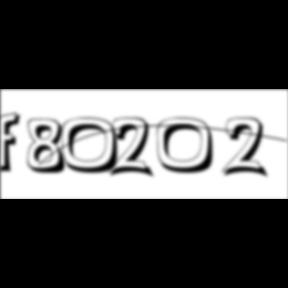2: (108, 117, 158, 181), (223, 117, 273, 181)
8: (28, 117, 72, 176)
O: (156, 117, 222, 176), (62, 117, 126, 176)
f: (0, 111, 26, 175)
